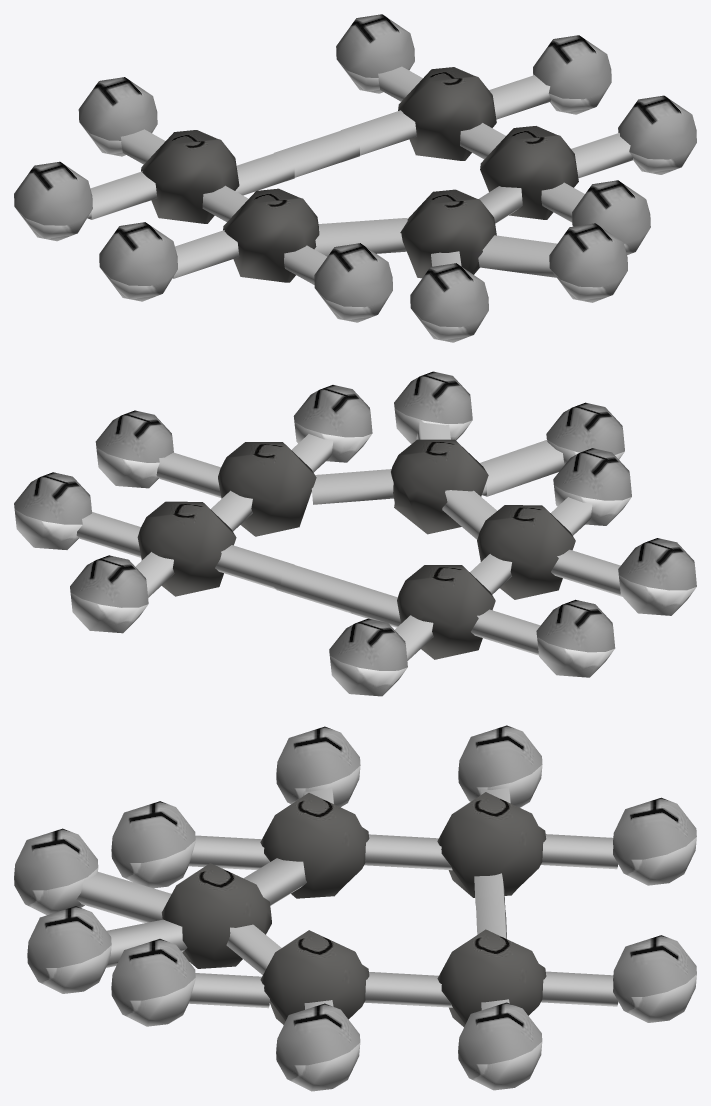
File: Ring.fbx
3 views of the same model, one above another, from view 1: azimuth 30°, elevation 25°; view 2: azimuth 150°, elevation 25°; view 3: azimuth 270°, elevation 25° (orthographic). The views are drawn at different scales.
Parts seen in each view (by area): view 1: Ring; view 2: Ring; view 3: Ring.
Boxes of the visible parts, bbox=[...] form: Ring: bbox=[14, 14, 696, 342]; Ring: bbox=[14, 371, 696, 696]; Ring: bbox=[14, 725, 696, 1091].
Bounding box in the file's own units: 58.3 × 7.95 × 53.48.
2 materials, 1 textured.
